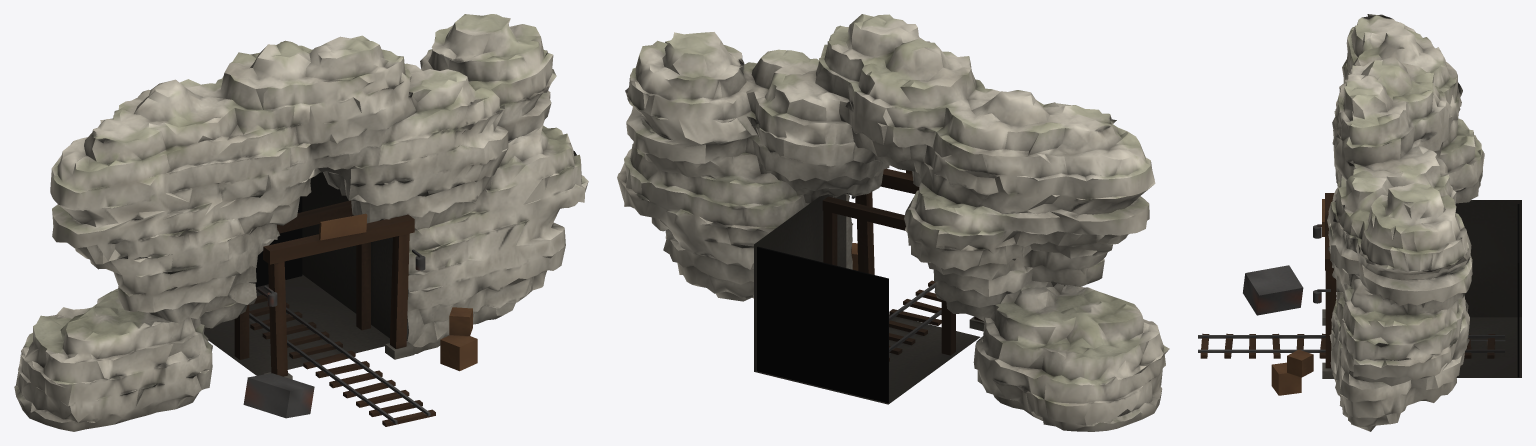
File: edificio_entrada_galeria.glb
3 views of the same model, side by side, from view 1: azimuth 30°, elevation 25°; view 2: azimuth 150°, elevation 25°; view 3: azimuth 270°, elevation 25° (orthographic). The views are drawn at different scales.
Visible parts, largest first — view 1: edificio_entrada_galeria; view 2: edificio_entrada_galeria; view 3: edificio_entrada_galeria.
Boxes of the visible parts, <box> form: edificio_entrada_galeria: <box>14,14,588,431</box>; edificio_entrada_galeria: <box>617,14,1169,431</box>; edificio_entrada_galeria: <box>1198,14,1521,431</box>.
Bounding box in the file's own units: 16.59 × 9.21 × 9.5.
3 materials, 1 textured.
